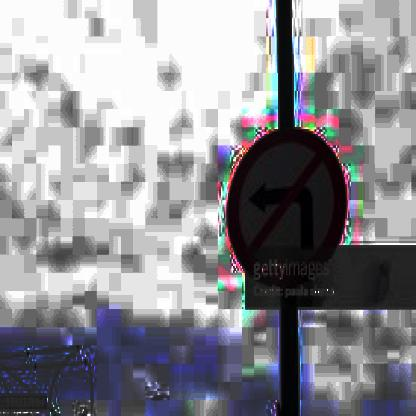No left turn: (229, 124, 348, 280)
